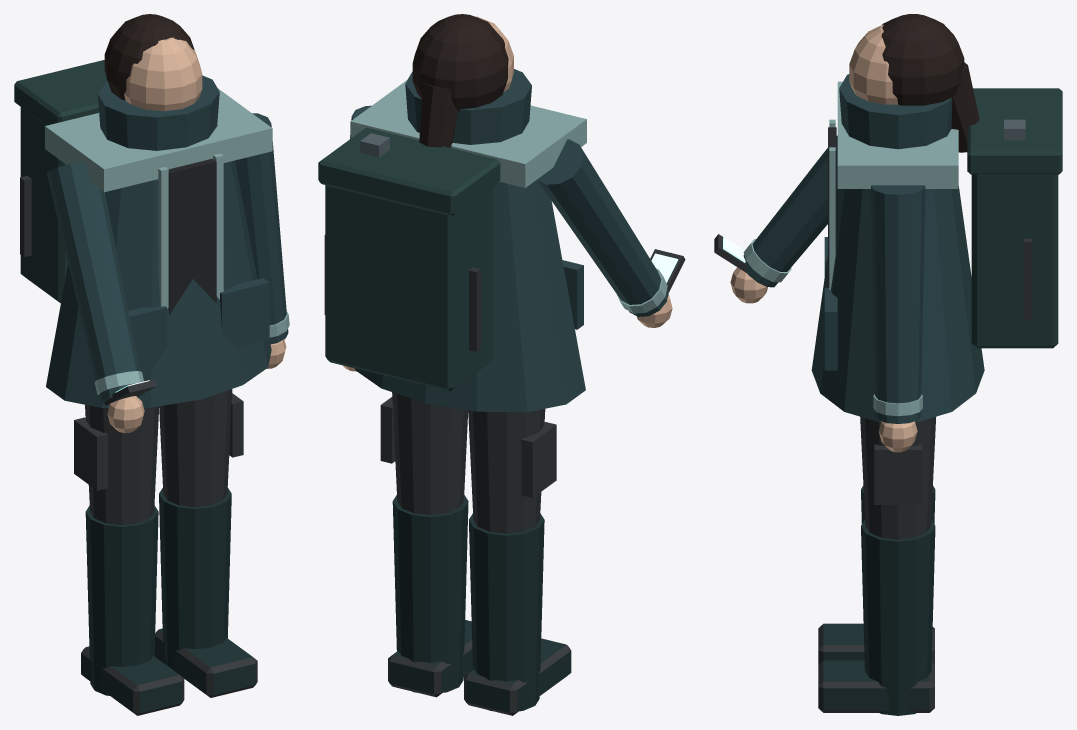
File: elena_blockout_a.glb
3 views of the same model, side by side, from view 1: azimuth 30°, elevation 25°; view 2: azimuth 150°, elevation 25°; view 3: azimuth 270°, elevation 25° (orthographic). The views are drawn at different scales.
Parts seen in each view (by area): view 1: Torso, LegR, LegL, ArmR, Backpack, Head, ArmL, Aster; view 2: Backpack, Torso, LegR, LegL, ArmR, Head, Aster; view 3: Torso, Backpack, LegL, ArmL, Head, ArmR, LegR, Aster.
Boxes of the visible parts, bbox=[...] form: Torso: bbox=[45, 75, 272, 407]; LegR: bbox=[74, 405, 184, 715]; LegL: bbox=[154, 389, 257, 697]; ArmR: bbox=[47, 161, 144, 433]; Backpack: bbox=[14, 60, 107, 303]; Head: bbox=[104, 14, 202, 111]; ArmL: bbox=[235, 113, 289, 368]; Aster: bbox=[104, 380, 156, 405]; Backpack: bbox=[318, 127, 500, 391]; Torso: bbox=[350, 69, 586, 412]; LegR: bbox=[464, 409, 571, 715]; LegL: bbox=[380, 392, 472, 697]; ArmR: bbox=[537, 139, 672, 327]; Head: bbox=[412, 14, 513, 147]; Aster: bbox=[650, 249, 685, 291]; Torso: bbox=[811, 74, 984, 421]; Backpack: bbox=[967, 88, 1062, 348]; LegL: bbox=[818, 416, 935, 715]; ArmL: bbox=[871, 185, 925, 452]; Head: bbox=[849, 14, 979, 152]; ArmR: bbox=[730, 135, 837, 303]; LegR: bbox=[818, 486, 935, 664]; Aster: bbox=[714, 234, 747, 272].
Bounding box in the file's own units: 0.6886 × 1.7 × 0.8048.
